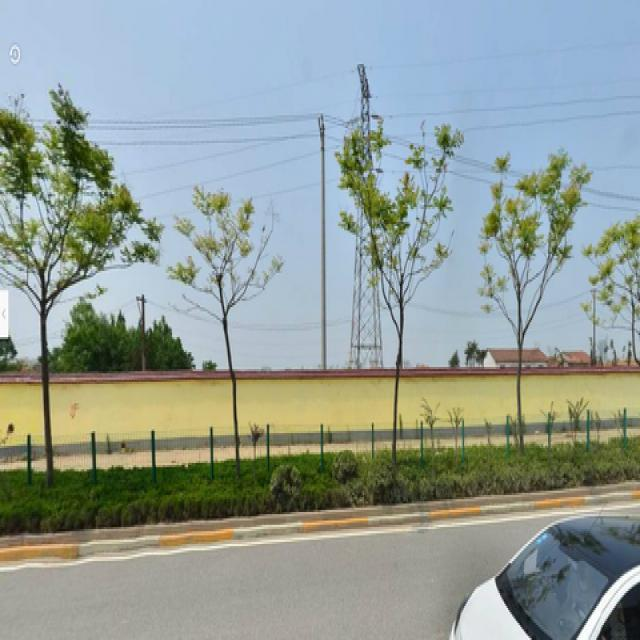koel: (340, 117, 465, 478), (485, 147, 580, 448)
